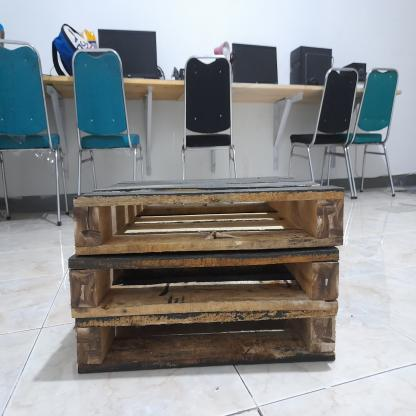Wooden-Pallet: (75, 185, 346, 255), (69, 250, 339, 320), (74, 307, 334, 378)
